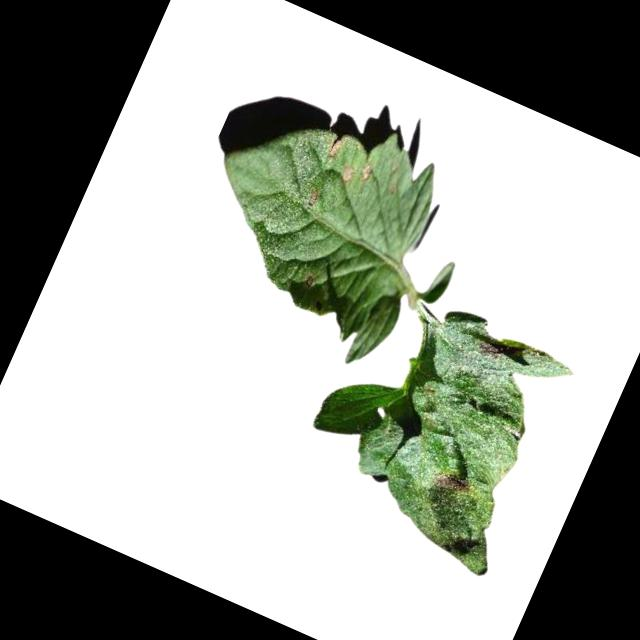Early_blight: (429, 466, 481, 506), (321, 133, 346, 163), (475, 341, 504, 364), (356, 160, 378, 185), (336, 163, 357, 186), (303, 189, 321, 209)
